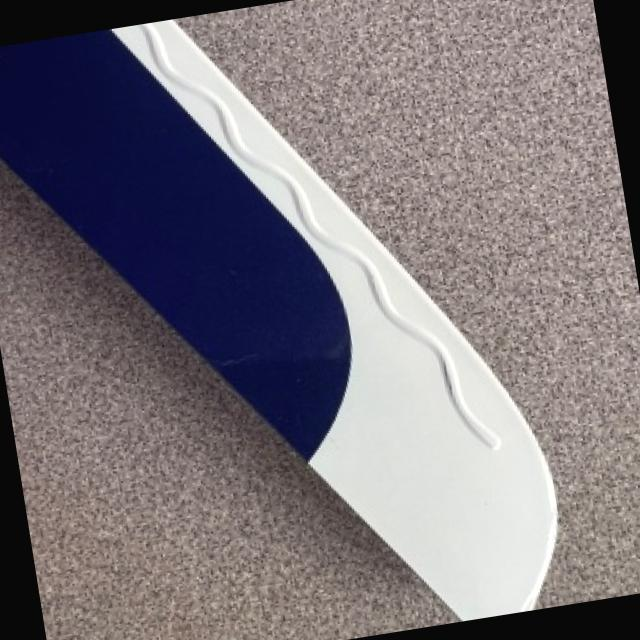healthy: (0, 19, 559, 619)
